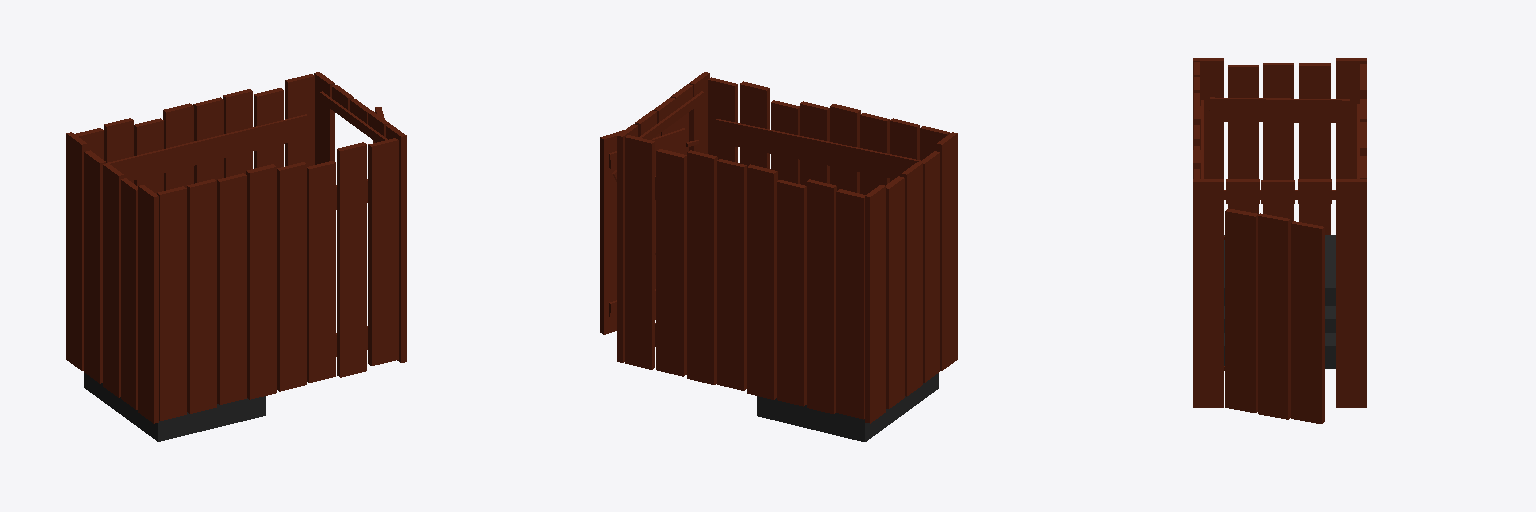
File: Hut_D.obj
3 renders of one model, left to right at view 1: azimuth 30°, elevation 25°; view 2: azimuth 150°, elevation 25°; view 3: azimuth 270°, elevation 25°, orthographic.
Parts seen in each view (by area): view 1: Hut_D; view 2: Hut_D; view 3: Hut_D.
Boxes of the visible parts, x1,y1,x2,y2 form: Hut_D: [66, 72, 406, 441]; Hut_D: [600, 72, 957, 441]; Hut_D: [1193, 58, 1366, 423].
Size of the model in its own units: 11.94 by 9.84 by 6.16.